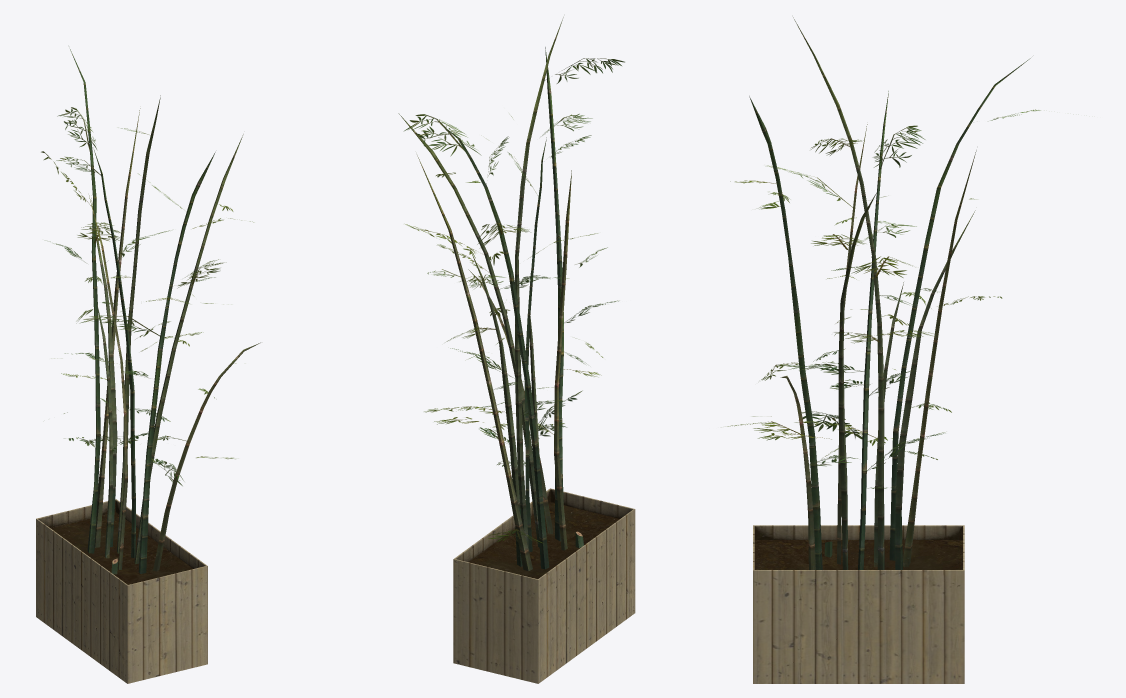
File: bamboo-alpha-source-none.gltf
The picture shows the model from 3 angles, left to right: view 1: azimuth 30°, elevation 25°; view 2: azimuth 150°, elevation 25°; view 3: azimuth 270°, elevation 25°; orthographic projection. The views are drawn at different scales.
Visible parts, largest first — view 1: hotel_lower_case, hotel_lower_bamboo_trim; view 2: hotel_lower_case, hotel_lower_bamboo_trim; view 3: hotel_lower_case, hotel_lower_bamboo_trim.
Part boxes in pixels (x1,y1,x2,y2): hotel_lower_case: (36,499,207,683); hotel_lower_bamboo_trim: (41,49,260,574); hotel_lower_case: (453,488,635,683); hotel_lower_bamboo_trim: (398,17,624,571); hotel_lower_case: (753,525,964,683); hotel_lower_bamboo_trim: (727,17,1040,569).
Bounding box in the file's own units: 136 × 295 × 172.
2 materials, 2 textured.
